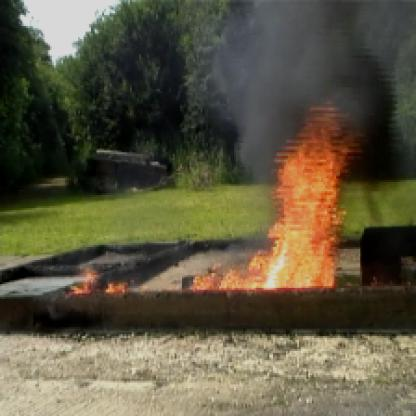Fire: (184, 96, 375, 292), (65, 262, 132, 299)
Smoke: (255, 2, 414, 106)
